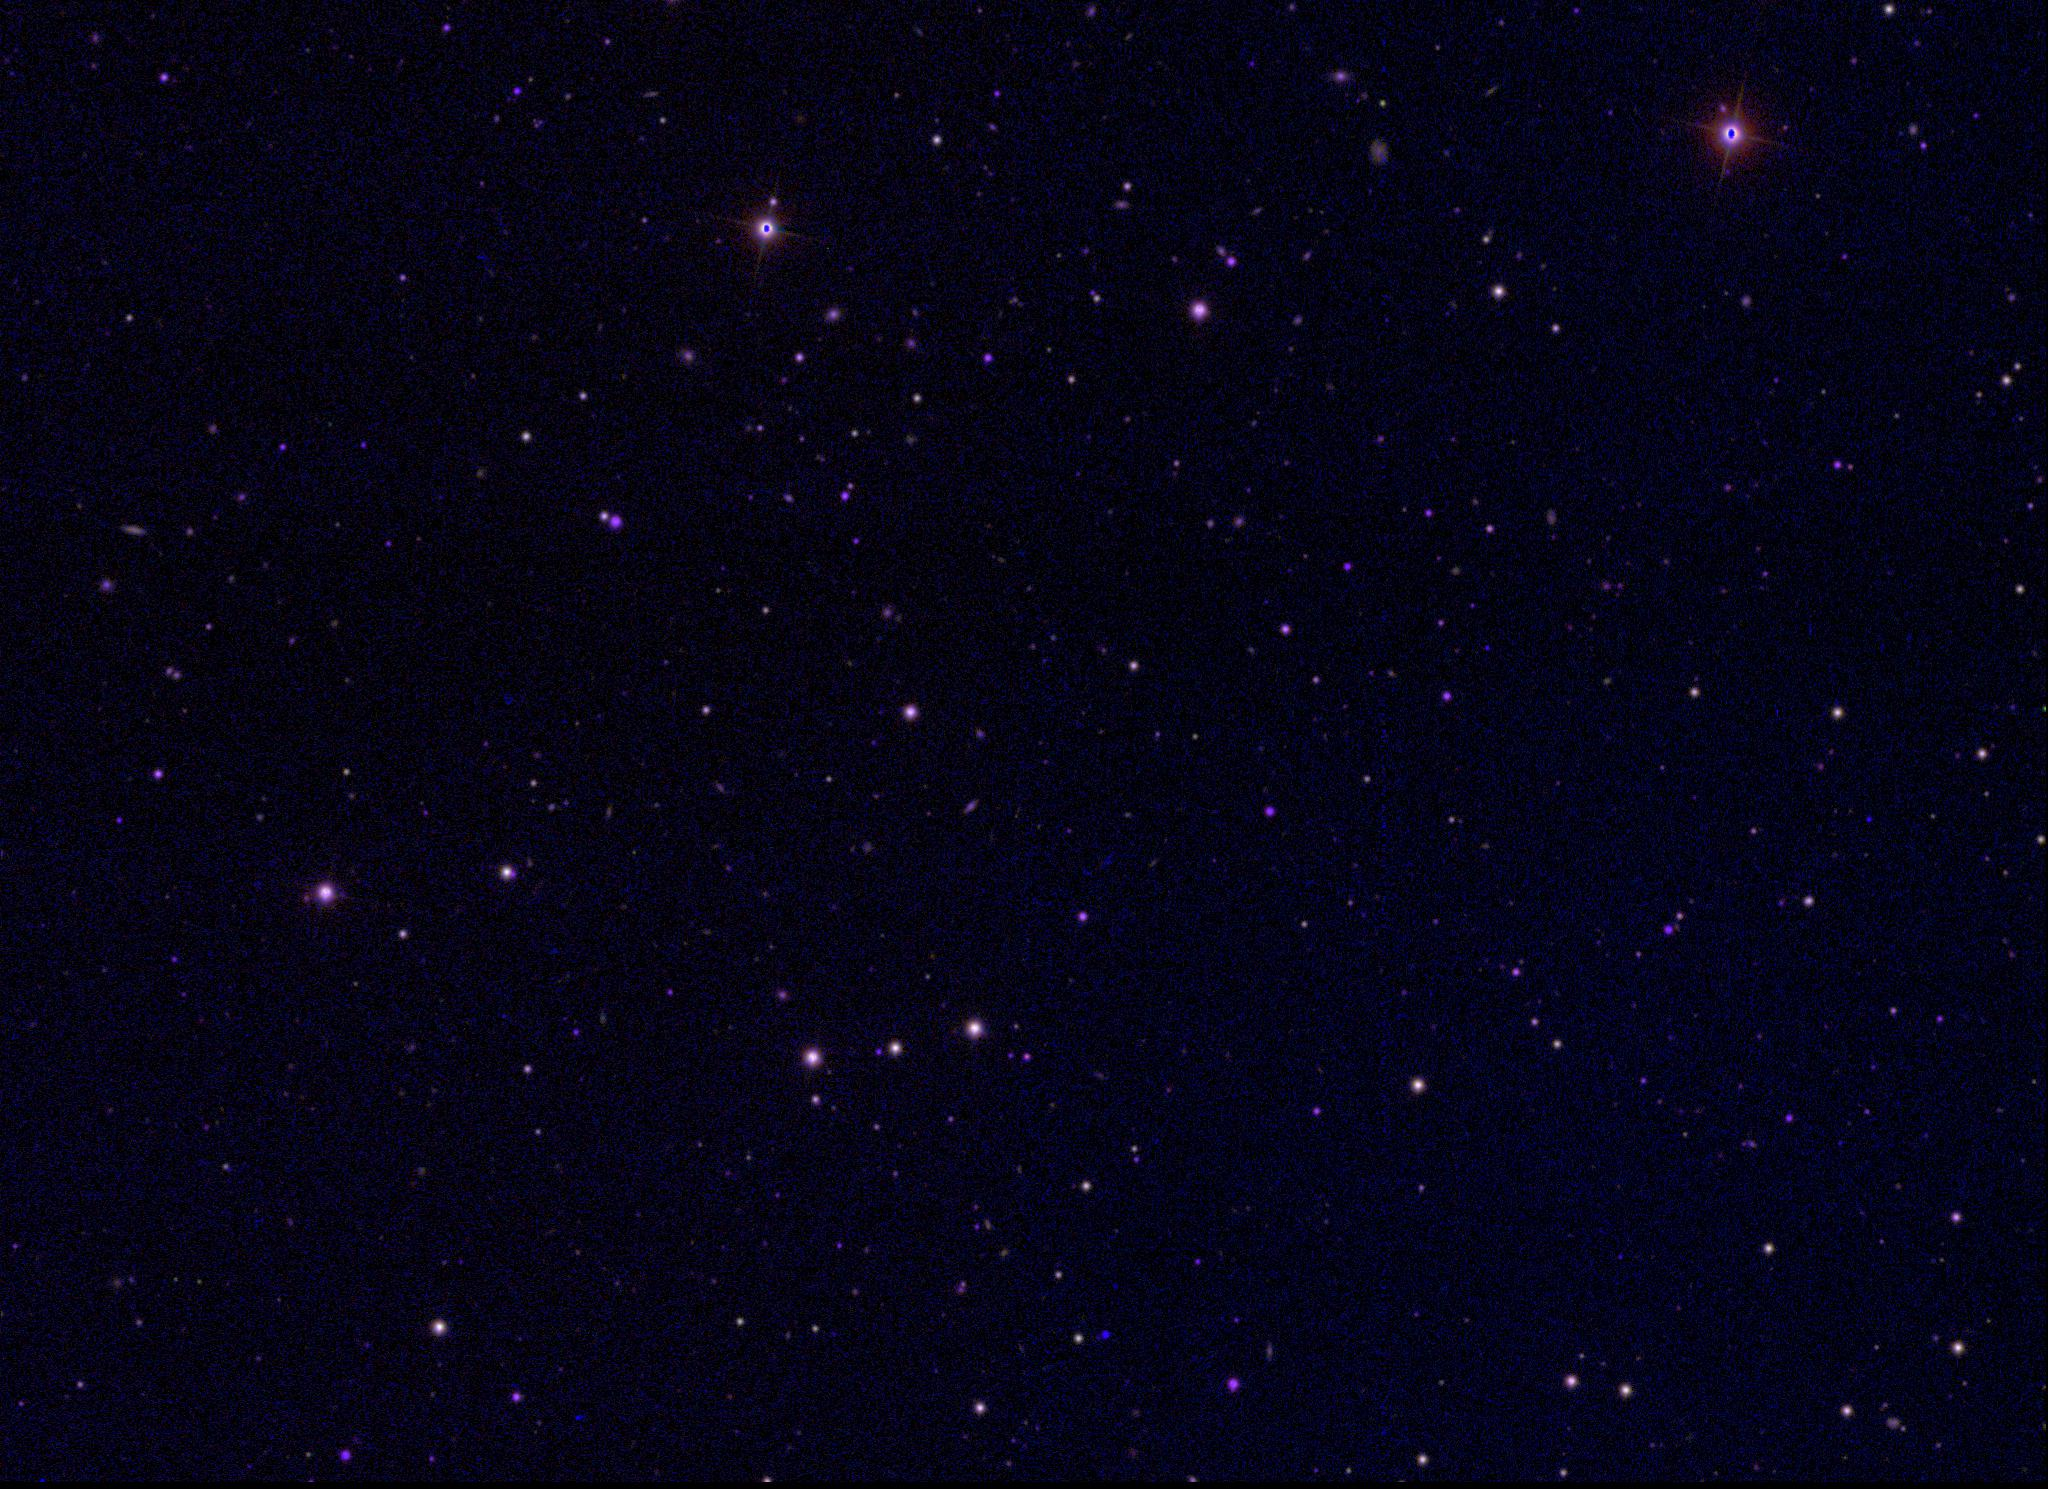L: (1100, 1328, 1115, 1343)
